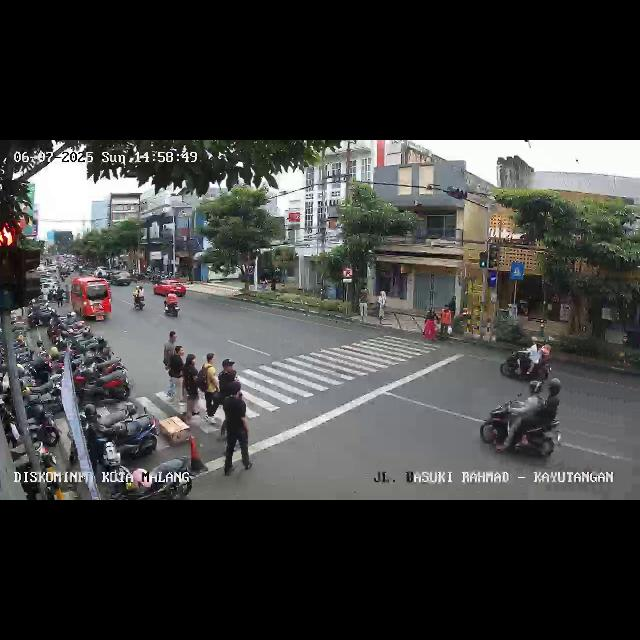car: (69, 278, 111, 322), (154, 278, 182, 298), (110, 272, 132, 286)
motorcycle: (482, 390, 562, 462), (500, 330, 552, 384), (163, 289, 183, 317), (132, 284, 146, 310)
person: (218, 380, 252, 474), (218, 359, 240, 439), (198, 354, 218, 426), (162, 330, 178, 396), (184, 353, 198, 422), (170, 345, 183, 413), (422, 309, 440, 346), (440, 304, 452, 342), (359, 286, 369, 322), (377, 290, 387, 320)
